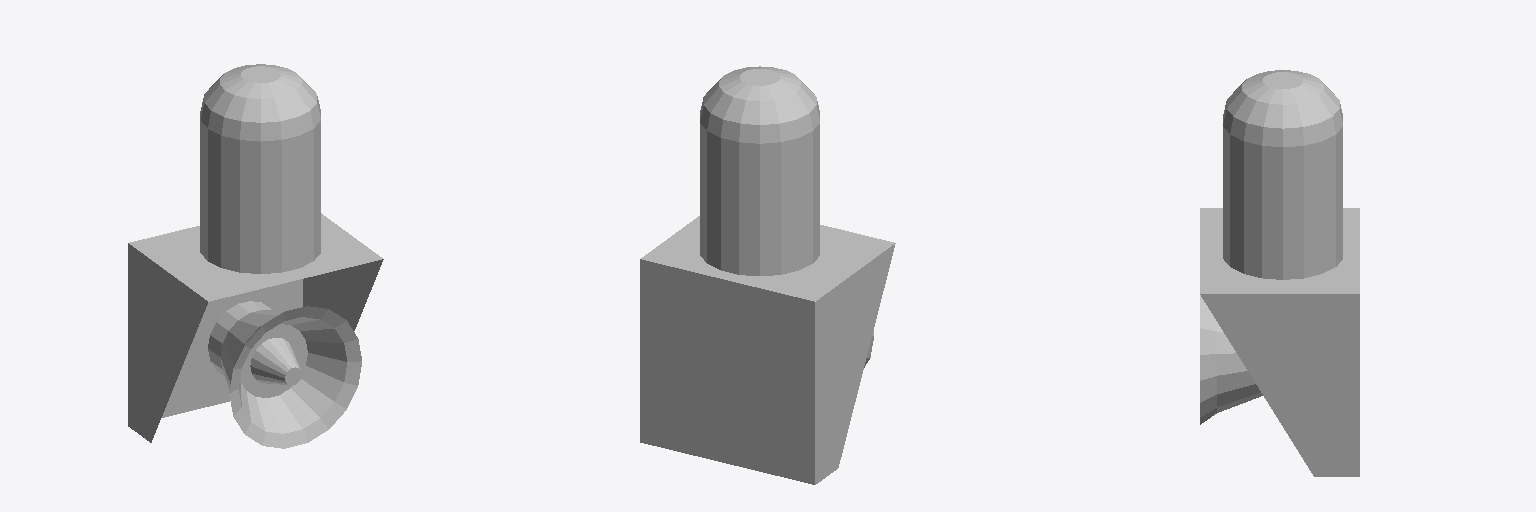
The model's file is 声光报警器.obj.
3 views of the same model, side by side, from view 1: azimuth 30°, elevation 25°; view 2: azimuth 150°, elevation 25°; view 3: azimuth 270°, elevation 25° (orthographic).
Visible parts, largest first — view 1: Box001, Cylinder001, Object001, Cylinder002, Cylinder003; view 2: Box001, Cylinder001; view 3: Box001, Cylinder001, Cylinder002.
Boxes of the visible parts, box(x1,y1,x2,y2) form: Box001: box(128, 213, 383, 442); Cylinder001: box(200, 64, 320, 273); Object001: box(239, 317, 346, 433); Cylinder002: box(208, 301, 361, 448); Cylinder003: box(250, 338, 301, 385); Box001: box(640, 216, 895, 484); Cylinder001: box(700, 66, 819, 275); Box001: box(1200, 208, 1359, 476); Cylinder001: box(1223, 70, 1342, 279); Cylinder002: box(1200, 295, 1262, 424).
Size of the model in its own units: 20 by 38.92 by 15.9.